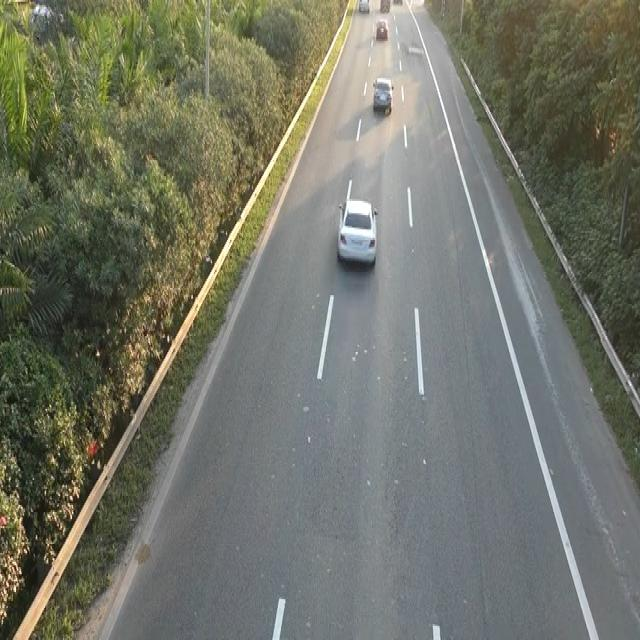bus: (334, 194, 381, 274), (371, 73, 394, 114)
